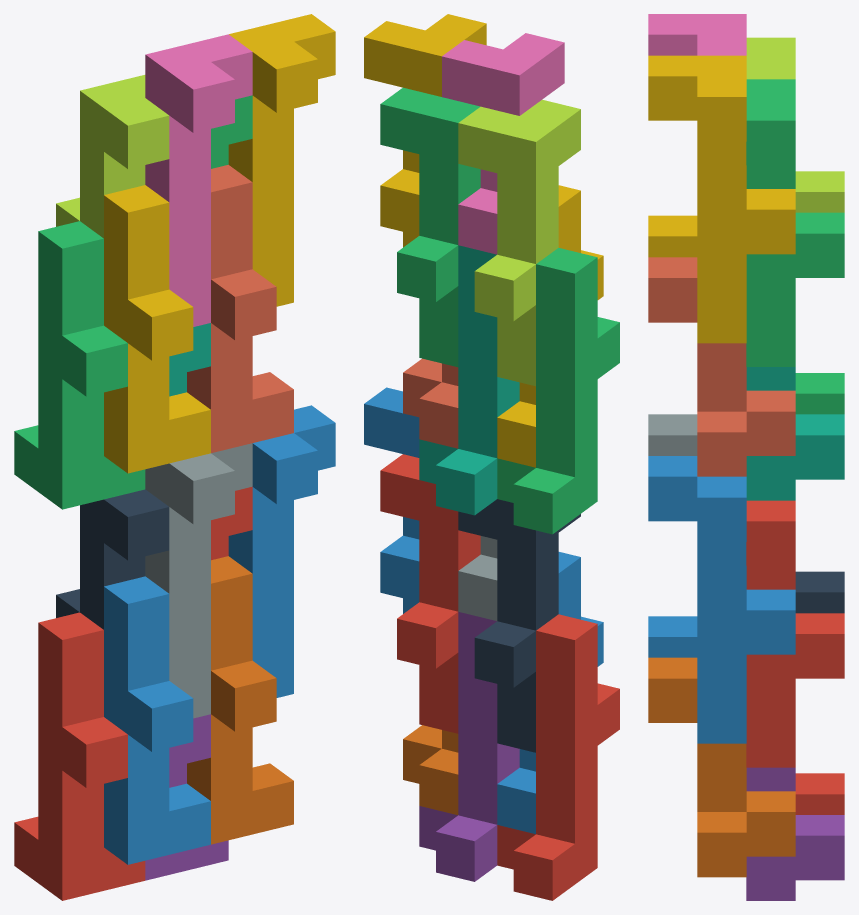
File: tiling.obj
3 renders of one model, left to right at view 1: azimuth 30°, elevation 25°; view 2: azimuth 150°, elevation 25°; view 3: azimuth 270°, elevation 25°, orthographic. The views are drawn at different scales.
Visible parts, largest first — view 1: copy_1_domain_1, copy_1_domain_3, copy_1_domain_2, copy_1_domain_4, copy_2_domain_4, copy_1_domain_6, copy_1_domain_8, copy_2_domain_8, copy_2_domain_2, copy_2_domain_6, copy_2_domain_3, copy_2_domain_1 (+4 smaller); view 2: copy_1_domain_3, copy_1_domain_1, copy_2_domain_3, copy_2_domain_7, copy_2_domain_1, copy_2_domain_5, copy_1_domain_5, copy_1_domain_7, copy_2_domain_4, copy_2_domain_8, copy_2_domain_6, copy_1_domain_4 (+4 smaller); view 3: copy_2_domain_8, copy_2_domain_6, copy_2_domain_7, copy_2_domain_5, copy_1_domain_6, copy_1_domain_8, copy_1_domain_5, copy_1_domain_7, copy_2_domain_3, copy_2_domain_4, copy_1_domain_4, copy_2_domain_1 (+4 smaller).
Boxes of the visible parts, left/top/right/bottom form: copy_1_domain_1: left=14, top=612, right=145, bottom=900; copy_1_domain_3: left=14, top=221, right=145, bottom=509; copy_1_domain_2: left=104, top=576, right=210, bottom=864; copy_1_domain_4: left=104, top=185, right=210, bottom=473; copy_2_domain_4: left=145, top=34, right=252, bottom=326; copy_1_domain_6: left=187, top=556, right=293, bottom=844; copy_1_domain_8: left=187, top=164, right=293, bottom=453; copy_2_domain_8: left=228, top=14, right=335, bottom=306; copy_2_domain_2: left=145, top=443, right=252, bottom=718; copy_2_domain_6: left=228, top=405, right=335, bottom=697; copy_2_domain_3: left=56, top=75, right=169, bottom=238; copy_2_domain_1: left=56, top=489, right=169, bottom=629; copy_1_domain_3: left=497, top=247, right=619, bottom=534; copy_1_domain_1: left=497, top=614, right=619, bottom=900; copy_2_domain_3: left=458, top=99, right=580, bottom=386; copy_2_domain_7: left=380, top=87, right=480, bottom=367; copy_2_domain_1: left=458, top=499, right=580, bottom=752; copy_2_domain_5: left=380, top=454, right=480, bottom=733; copy_1_domain_5: left=419, top=612, right=519, bottom=881; copy_1_domain_7: left=419, top=245, right=519, bottom=515; copy_2_domain_4: left=442, top=33, right=564, bottom=254; copy_2_domain_8: left=364, top=14, right=486, bottom=247; copy_2_domain_6: left=364, top=387, right=419, bottom=613; copy_1_domain_4: left=497, top=185, right=603, bottom=467; copy_2_domain_8: left=648, top=55, right=795, bottom=343; copy_2_domain_6: left=648, top=456, right=795, bottom=743; copy_2_domain_7: left=746, top=79, right=844, bottom=366; copy_2_domain_5: left=746, top=500, right=844, bottom=767; copy_1_domain_6: left=648, top=657, right=795, bottom=877; copy_1_domain_8: left=648, top=257, right=795, bottom=476; copy_1_domain_5: left=746, top=767, right=844, bottom=900; copy_1_domain_7: left=746, top=367, right=844, bottom=500; copy_2_domain_3: left=746, top=37, right=844, bottom=212; copy_2_domain_4: left=648, top=14, right=746, bottom=55; copy_1_domain_4: left=648, top=215, right=697, bottom=257; copy_2_domain_1: left=795, top=571, right=844, bottom=613.
Bounding box in the file's own units: 6 × 19 × 4.
